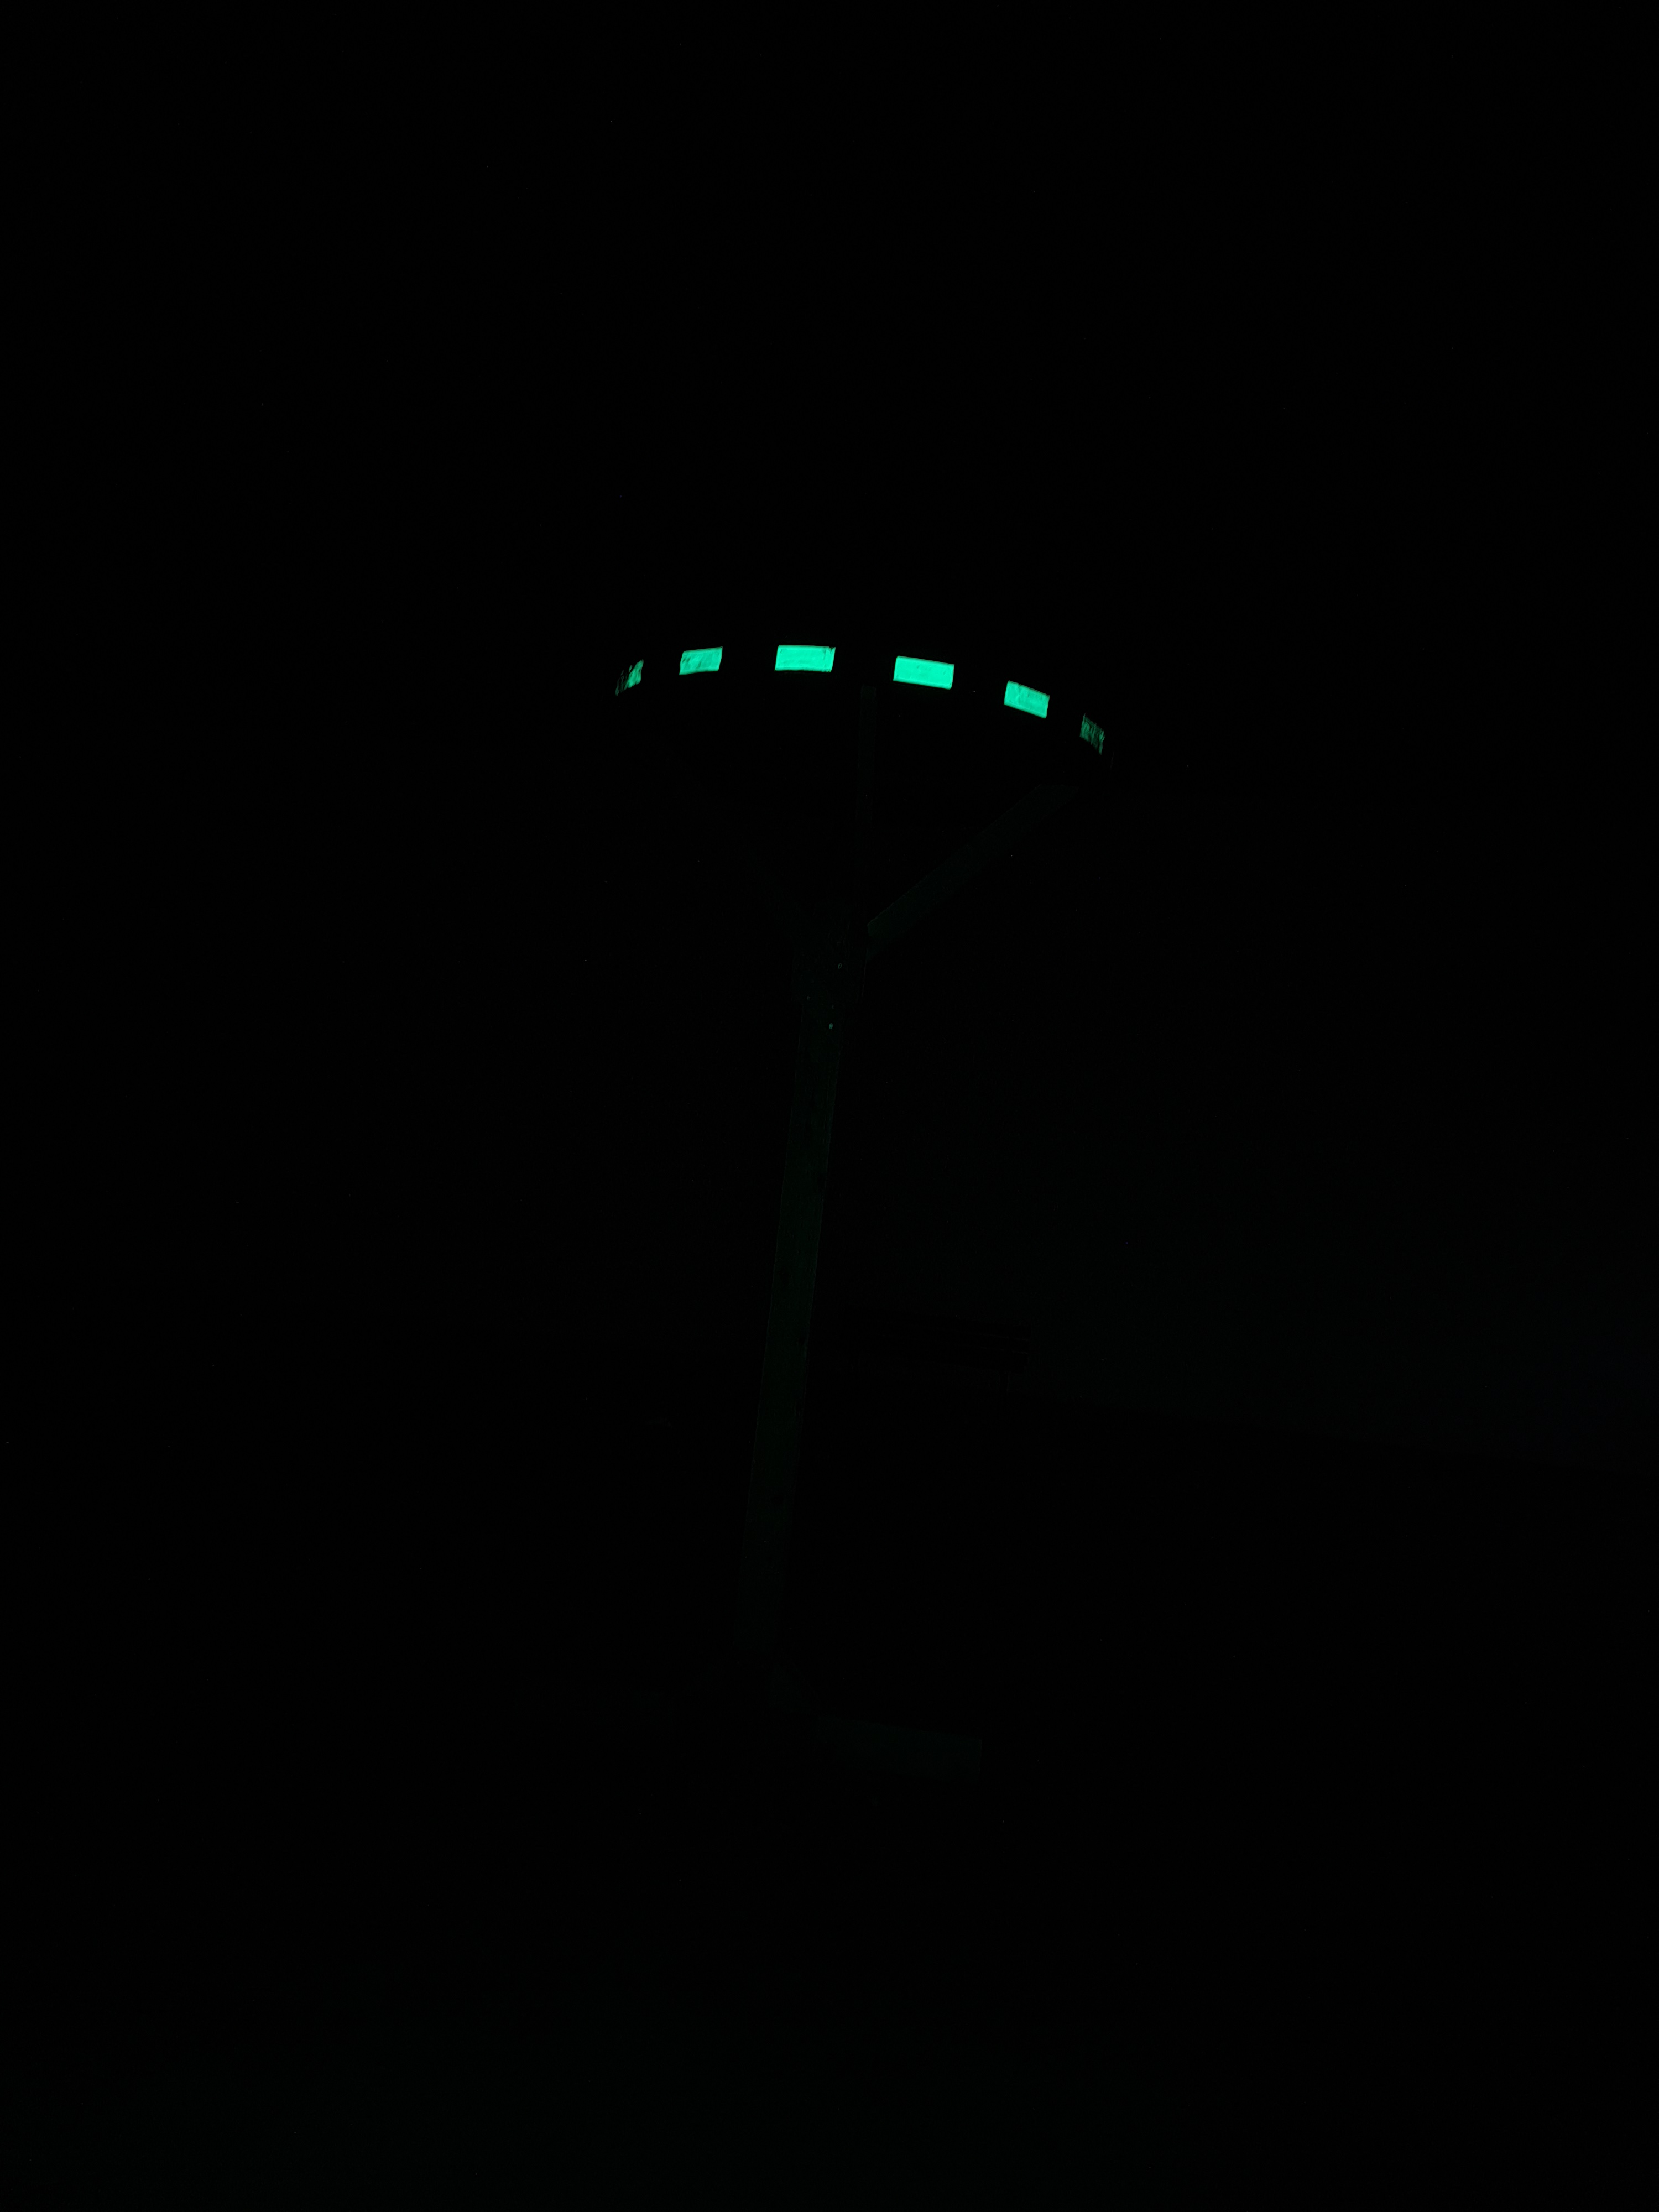hoop: (610, 622, 1110, 765)
